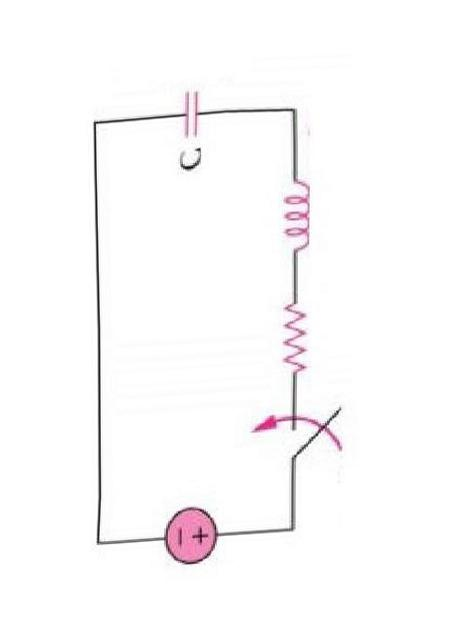Battery: (151, 495, 231, 575)
